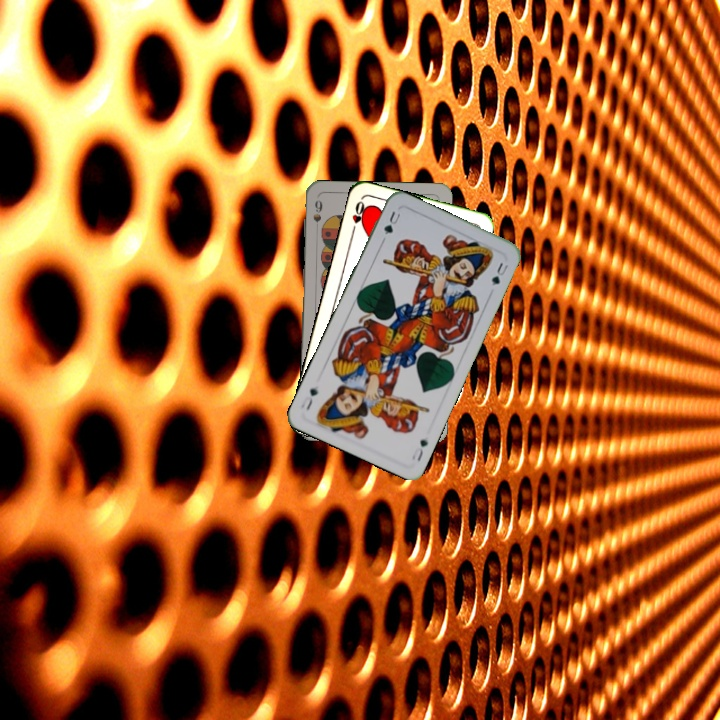GU: (380, 207, 403, 237), (408, 435, 430, 464)
HO: (348, 197, 369, 236)
S9: (309, 196, 325, 236)
